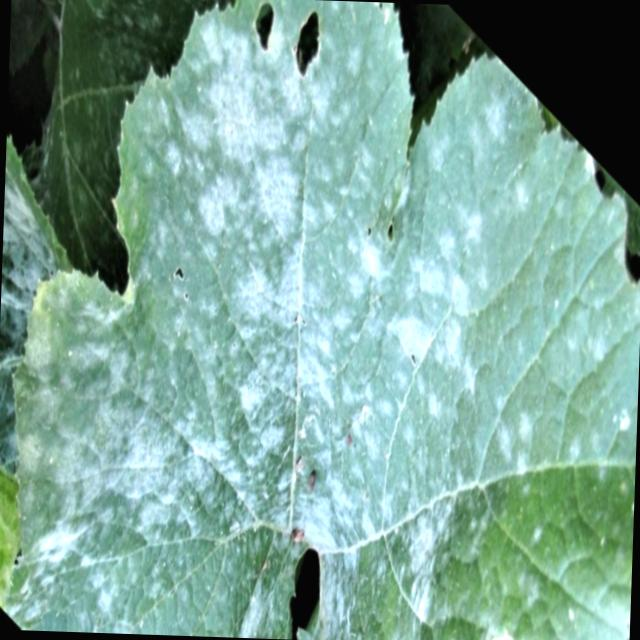Powdery_Mildew: (4, 0, 640, 640), (107, 0, 414, 276), (485, 280, 640, 640), (76, 355, 284, 586), (358, 295, 485, 640)
